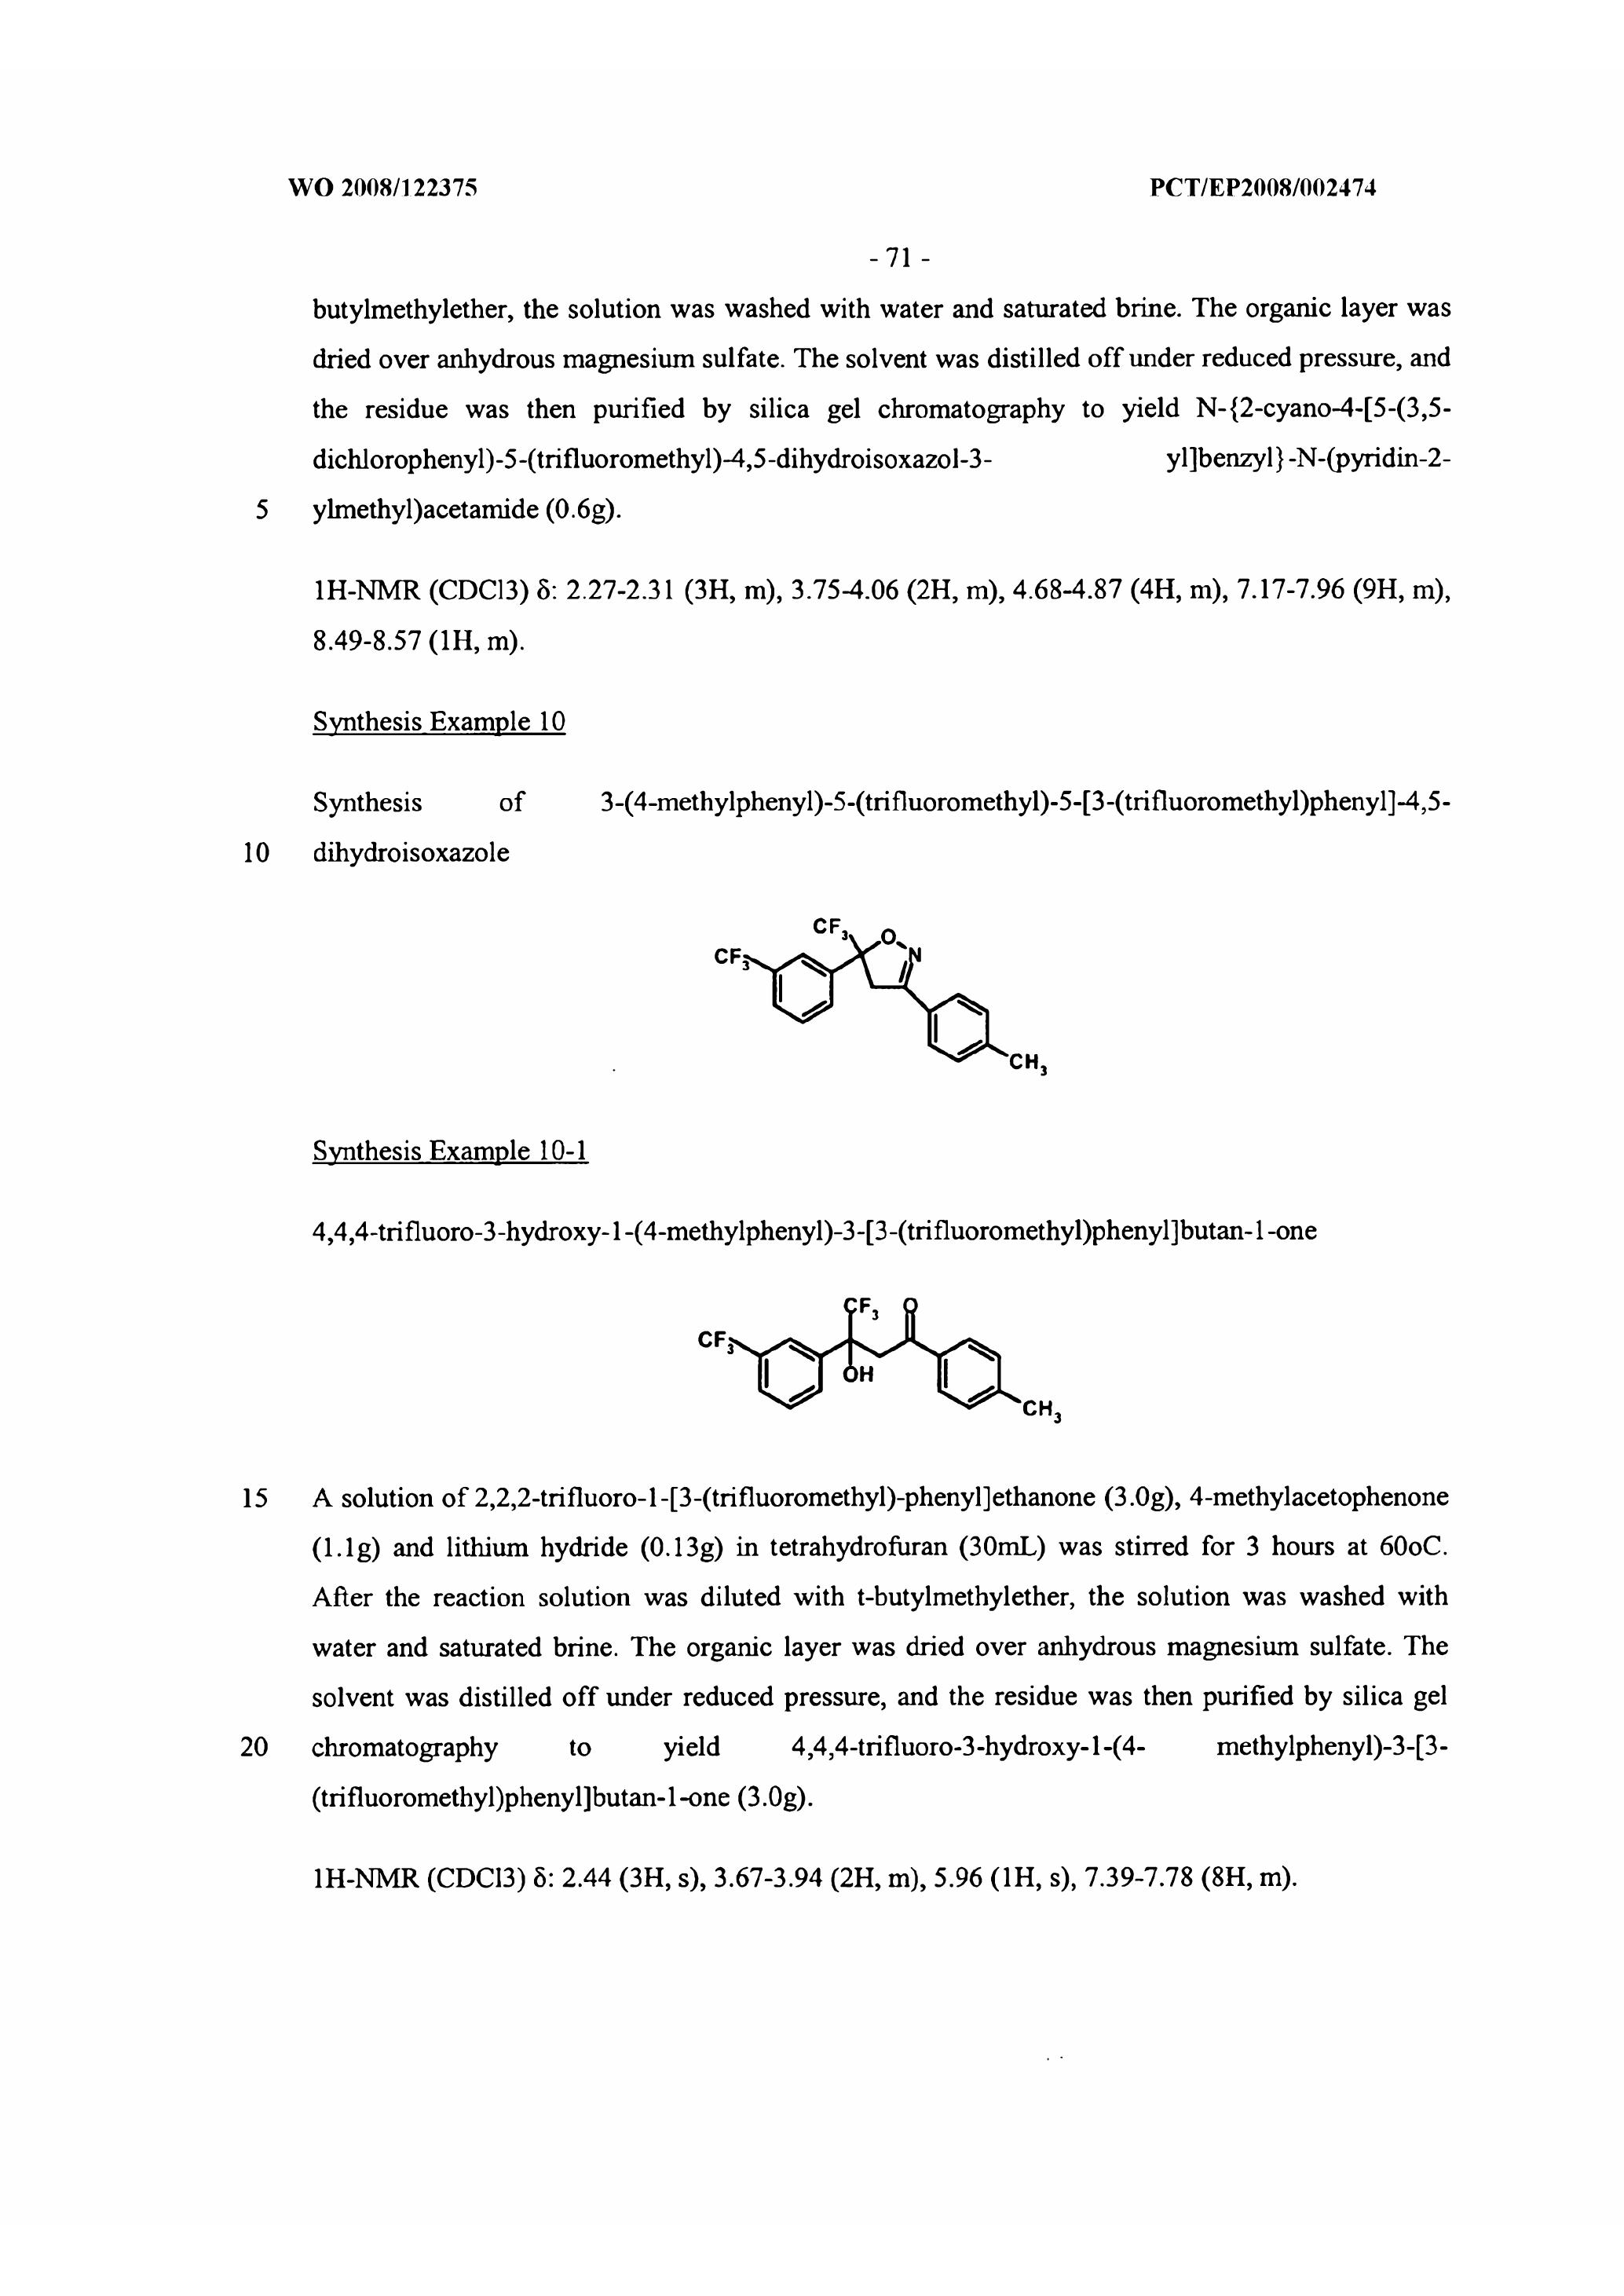intermediates: (663, 883, 1106, 1120)
relevant-structures: (638, 1243, 1193, 1466)
